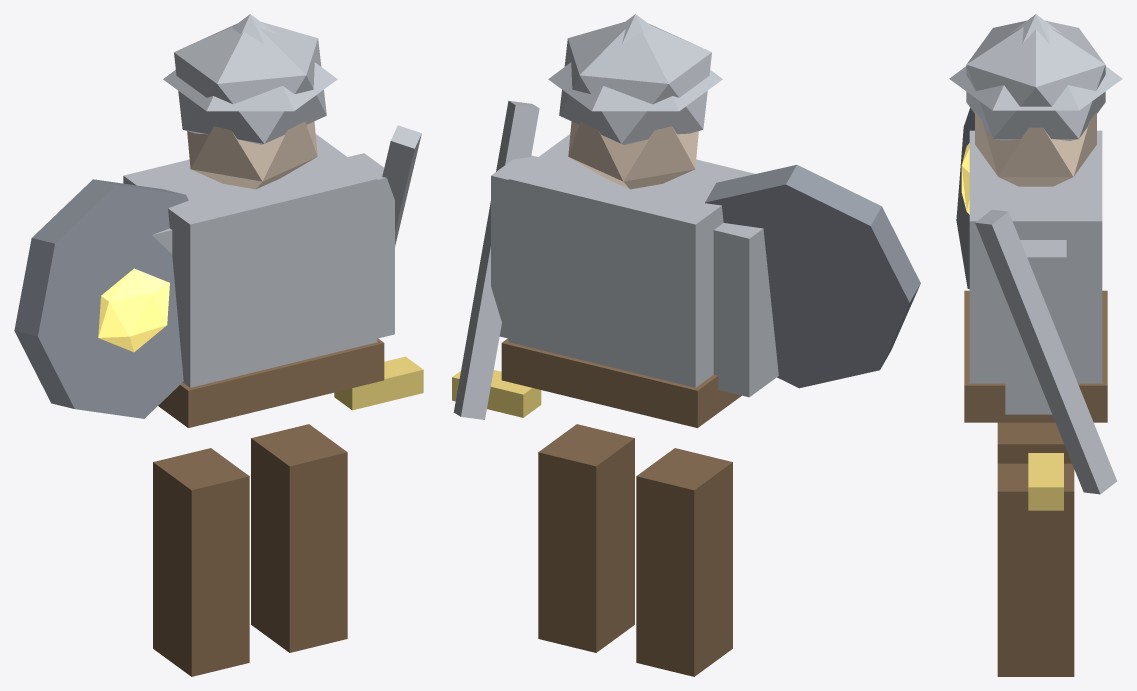
Rendered from knight.glb.
3 views of the same model, side by side, from view 1: azimuth 30°, elevation 25°; view 2: azimuth 150°, elevation 25°; view 3: azimuth 270°, elevation 25° (orthographic).
Parts seen in each view (by area): view 1: SettlerLegL; view 2: SettlerLegL; view 3: SettlerLegL.
Boxes of the visible parts, x1,y1,x2,y2 form: SettlerLegL: [14, 14, 423, 676]; SettlerLegL: [452, 14, 920, 676]; SettlerLegL: [949, 14, 1122, 676].
Size of the model in its own units: 0.9521 by 1.35 by 0.34.
